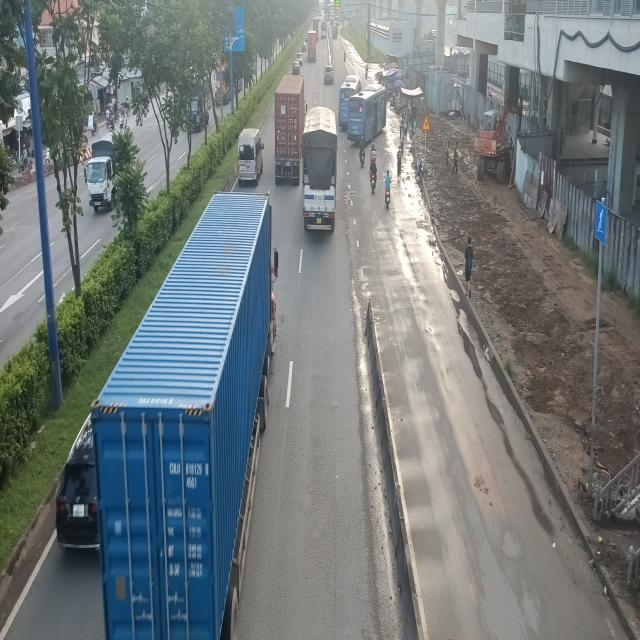coach: (349, 88, 389, 144), (339, 76, 360, 132)
container: (92, 192, 277, 639), (274, 76, 308, 188)
truck: (304, 106, 340, 232)
van: (238, 128, 265, 182)
